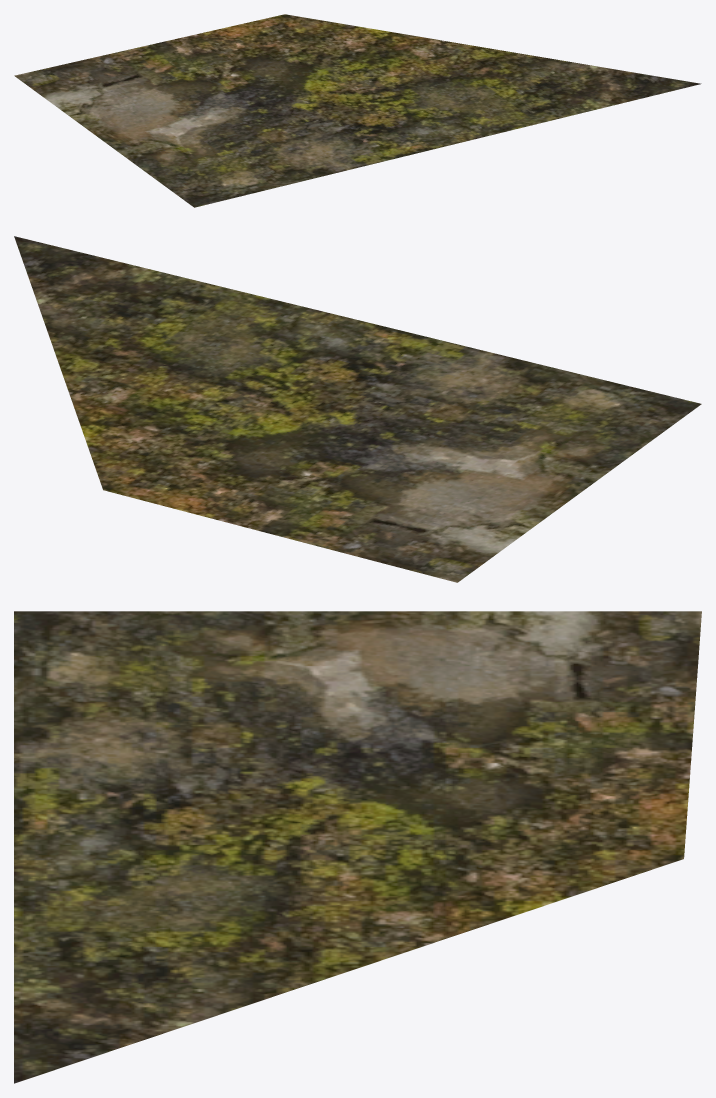
The model's file is moss_float08.dae.
3 renders of one model, top to bottom at view 1: azimuth 30°, elevation 25°; view 2: azimuth 150°, elevation 25°; view 3: azimuth 270°, elevation 25°, orthographic. The views are drawn at different scales.
Parts seen in each view (by area): view 1: 08; view 2: 08; view 3: 08.
Boxes of the visible parts, <box> form: 08: <box>14,14,701,207</box>; 08: <box>14,236,701,582</box>; 08: <box>14,611,701,1083</box>.
Size of the model in its own units: 1.46 by 0 by 0.8984.
